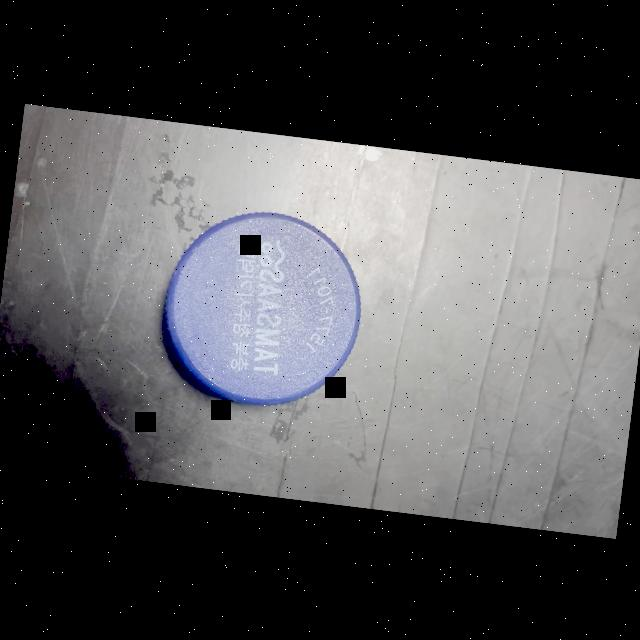plastic_bottle_cap: (144, 190, 378, 422)
